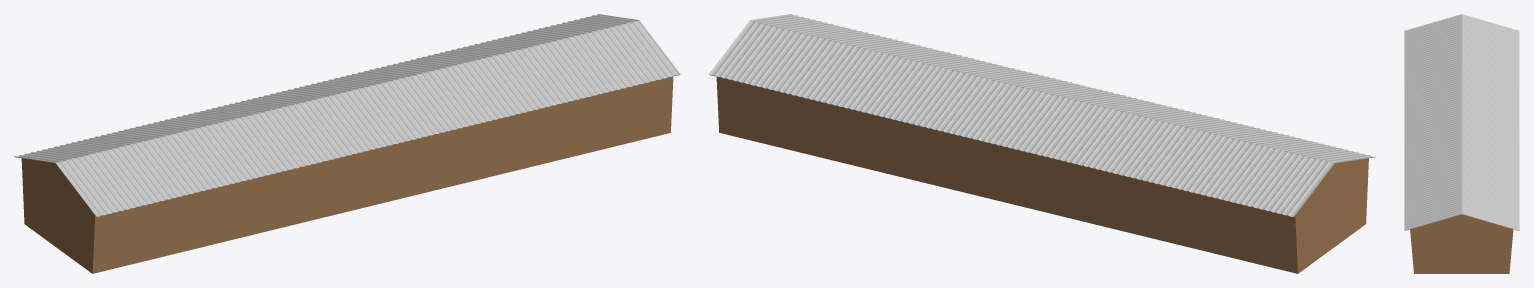
Rendered from Factory (building 4).fbx.
The picture shows the model from 3 angles, left to right: view 1: azimuth 30°, elevation 25°; view 2: azimuth 150°, elevation 25°; view 3: azimuth 270°, elevation 25°; orthographic projection. The views are drawn at different scales.
Parts seen in each view (by area): view 1: Factory (building 4); view 2: Factory (building 4); view 3: Factory (building 4).
Boxes of the visible parts, left/top/right/bottom form: Factory (building 4): left=14, top=14, right=680, bottom=273; Factory (building 4): left=709, top=14, right=1375, bottom=273; Factory (building 4): left=1404, top=14, right=1519, bottom=273.
Size of the model in its own units: 10872 by 1548 by 2649.
